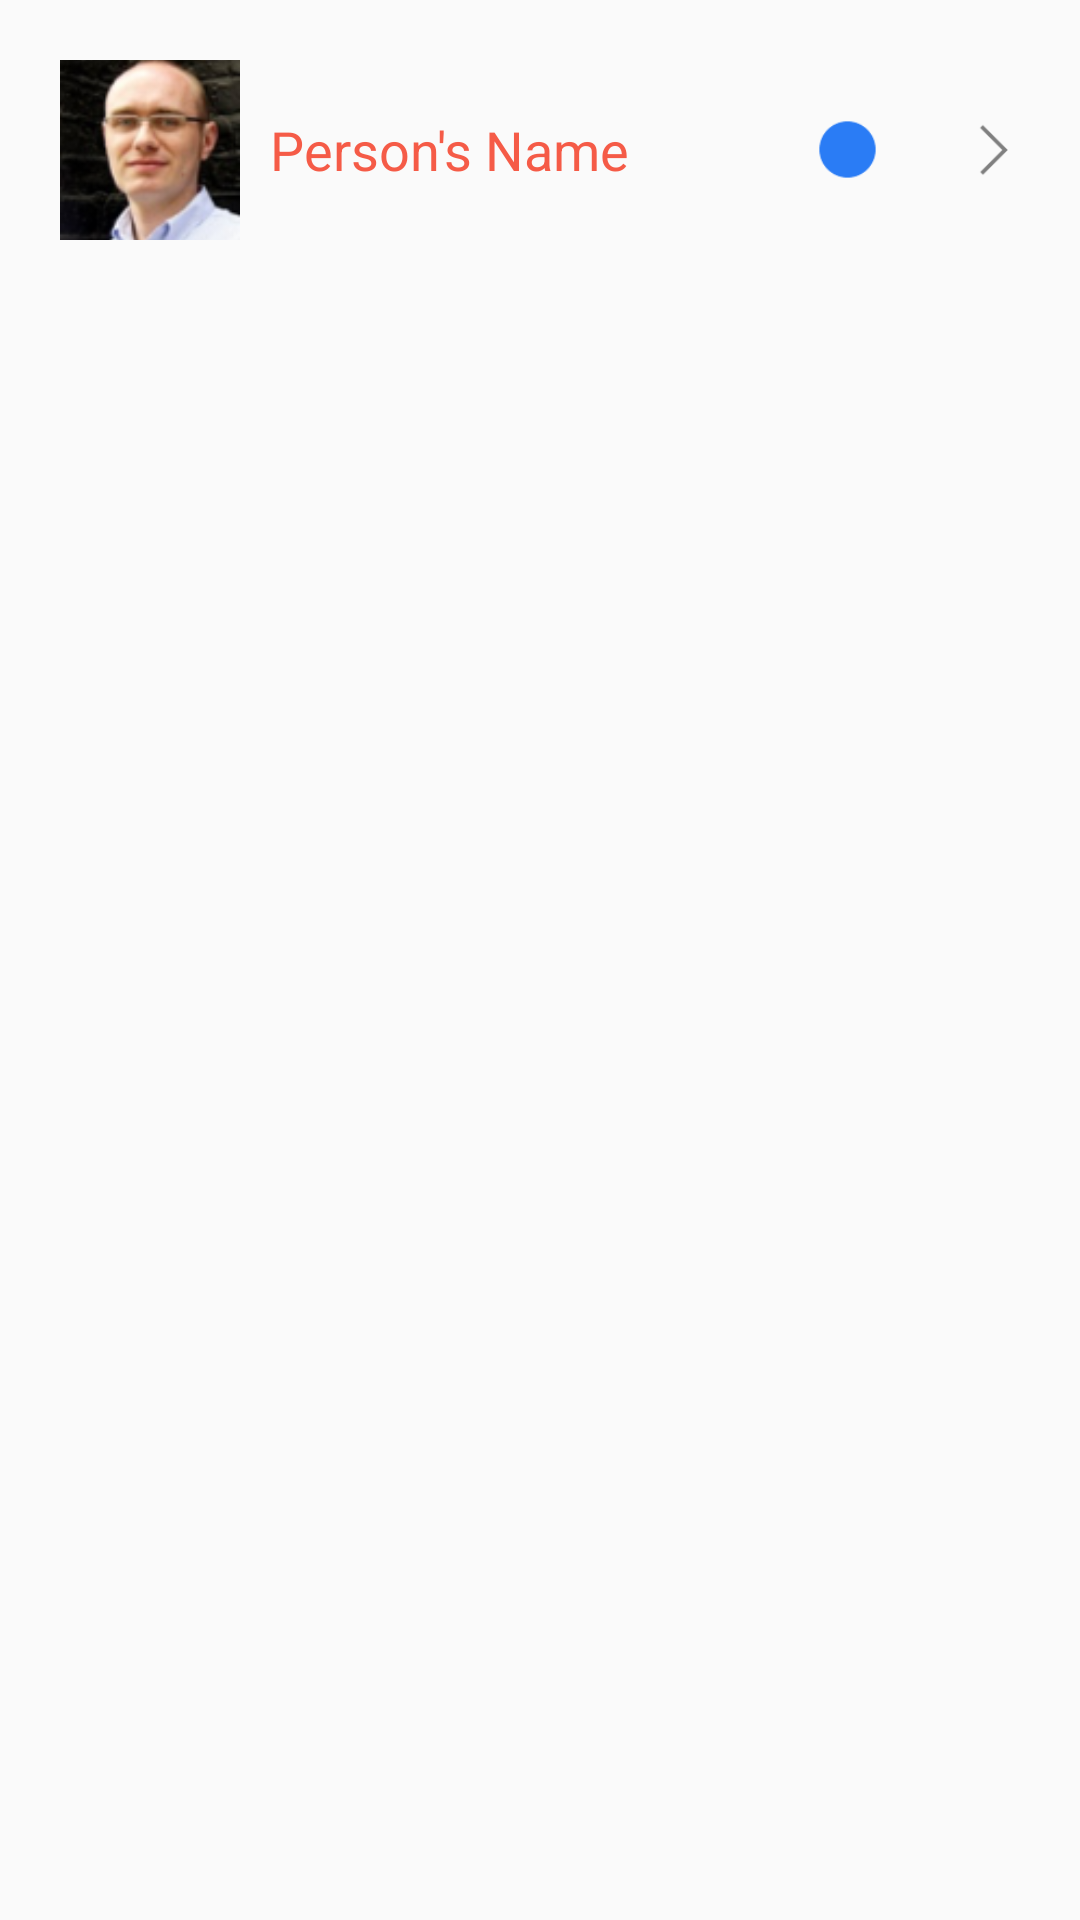

Screen size 1080 x 1920. Icon name, then its box in pixels as bbox=[x1, y1, x2, y2]:
arrow: bbox=[980, 125, 1008, 175]
